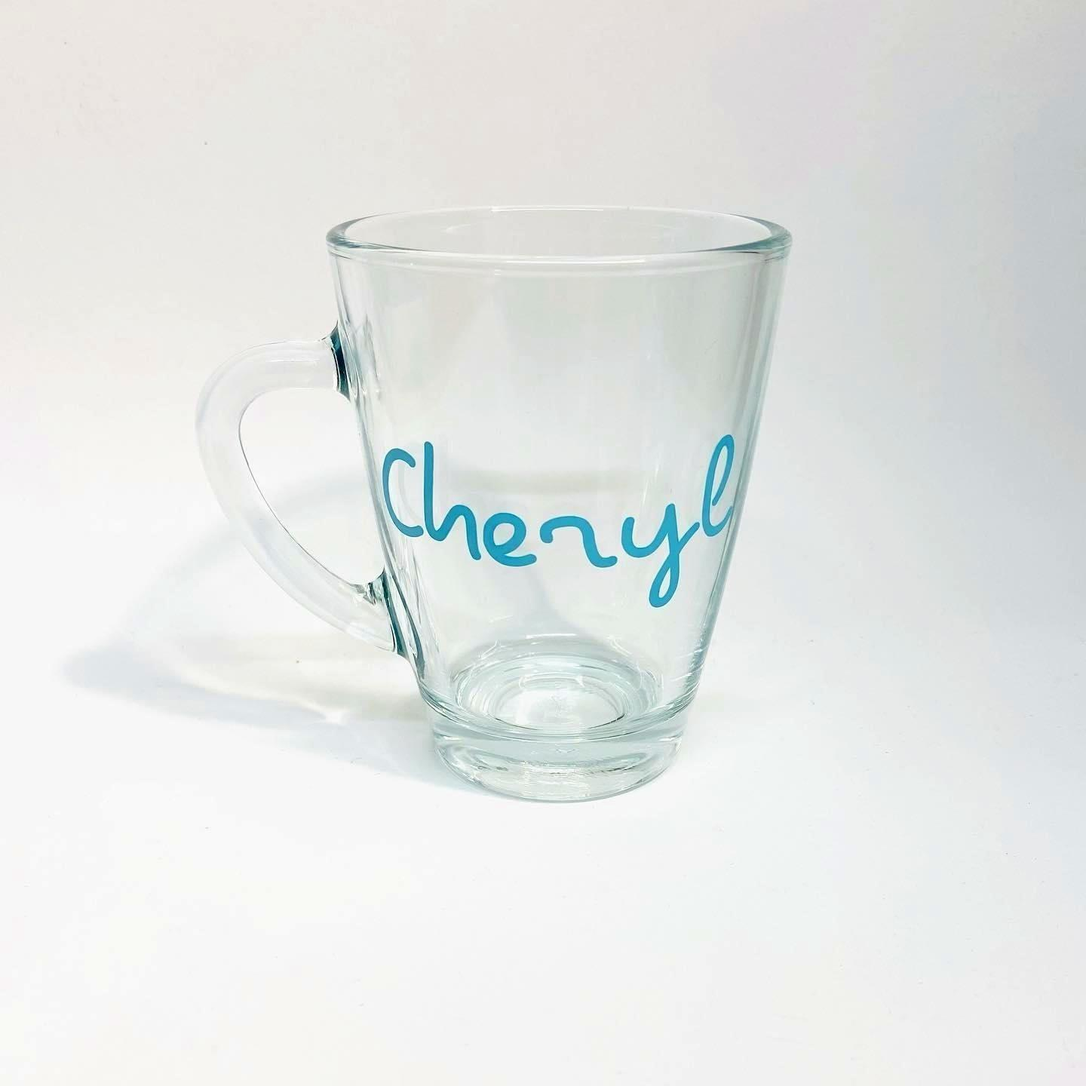glass-mug: (204, 198, 810, 815)
